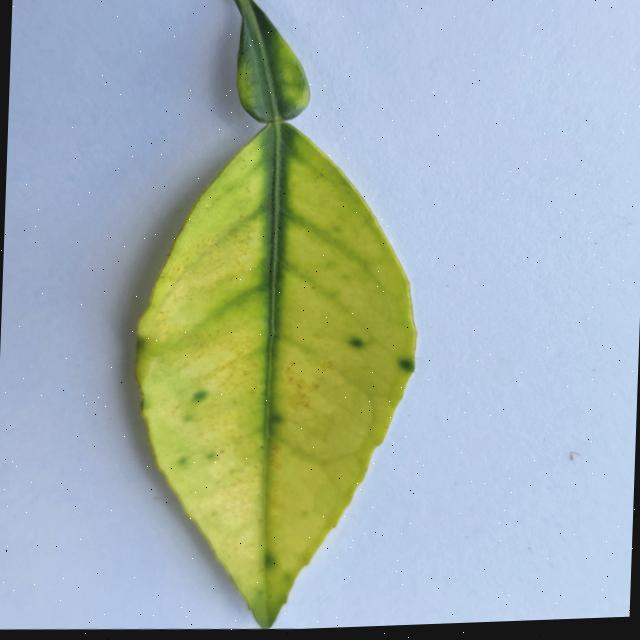greening: (135, 121, 414, 625)
